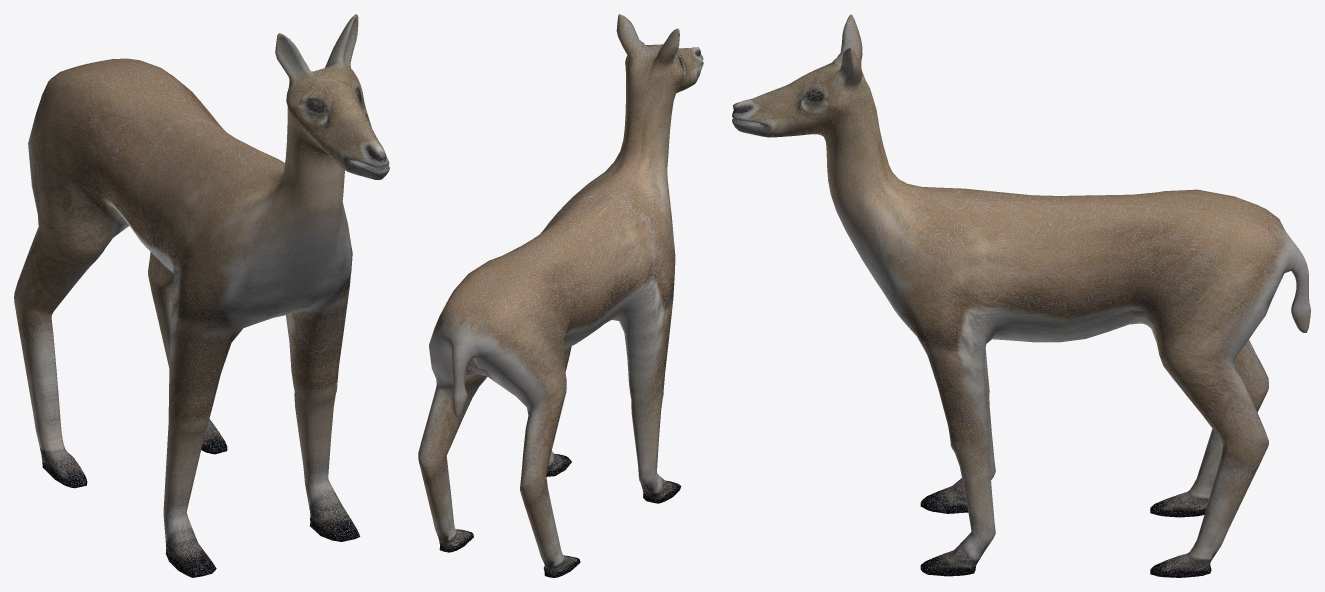
3 views of the same model, side by side, from view 1: azimuth 30°, elevation 25°; view 2: azimuth 150°, elevation 25°; view 3: azimuth 270°, elevation 25° (orthographic). The views are drawn at different scales.
Parts seen in each view (by area): view 1: dEER_2; view 2: dEER_2; view 3: dEER_2.
Boxes of the visible parts, x1,y1,x2,y2 form: dEER_2: [14, 14, 389, 577]; dEER_2: [418, 14, 703, 577]; dEER_2: [732, 14, 1310, 577].
Bounding box in the file's own units: 152 × 494 × 483.
Materials: 4 (1 with a texture image).
